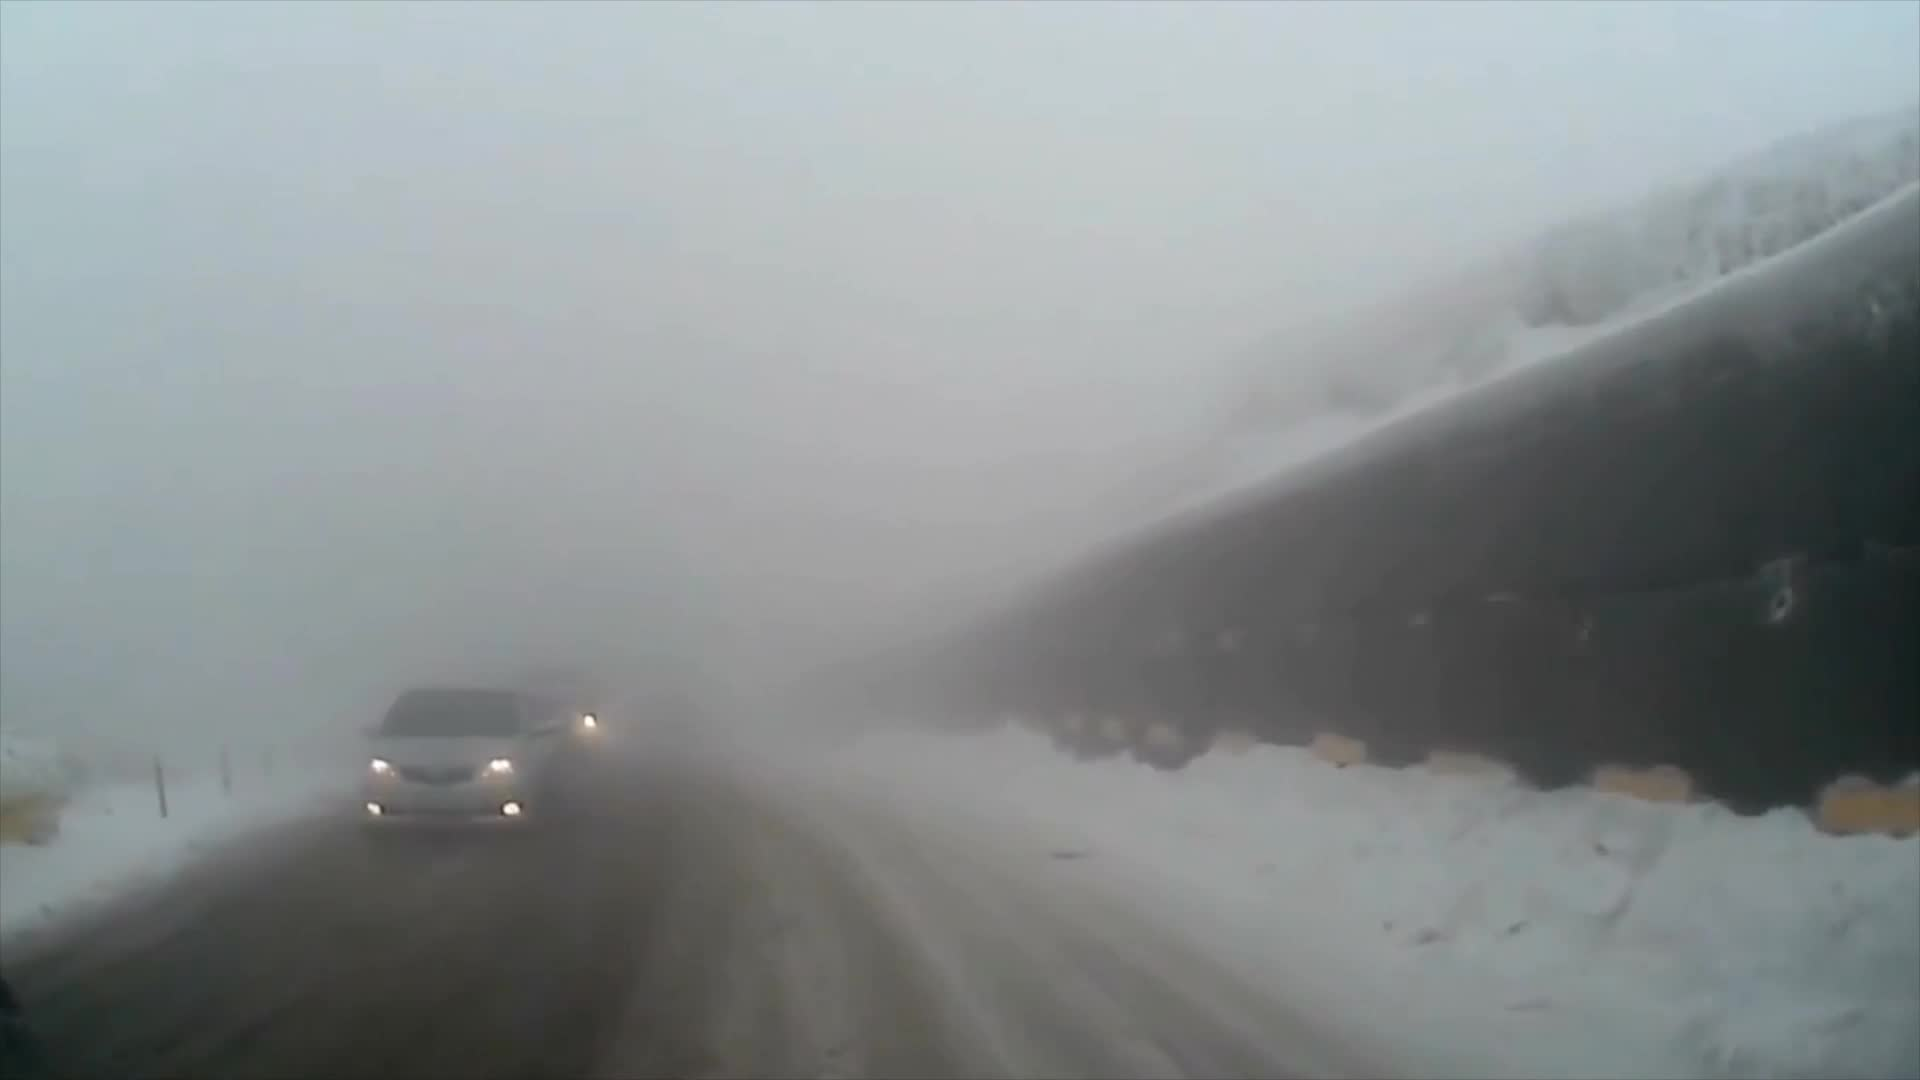vehicle: (355, 682, 560, 844)
